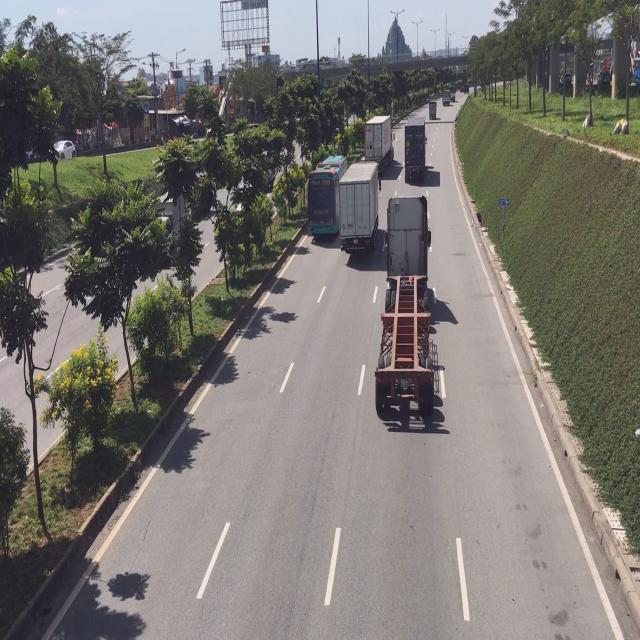bus: (304, 155, 346, 237)
truck: (376, 188, 437, 424), (338, 160, 382, 253), (365, 114, 393, 171), (404, 118, 426, 184)
